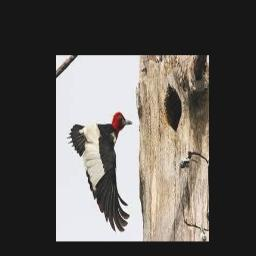Woodpecker: (66, 112, 132, 232)
